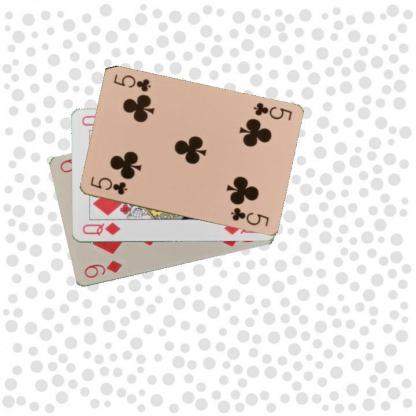5c: (250, 100, 293, 122), (88, 173, 128, 196)
9d: (82, 258, 123, 280)
Qd: (80, 219, 121, 238)
